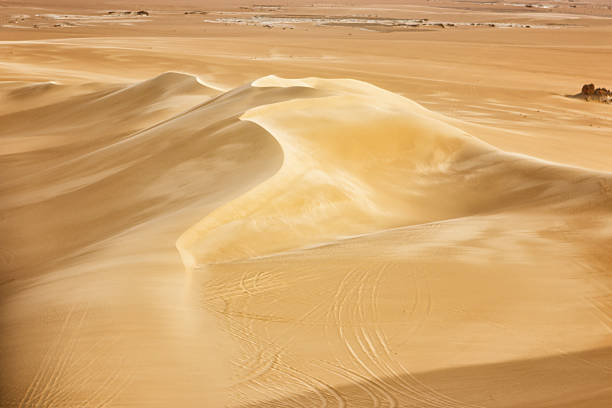vehicle_track: (331, 266, 441, 407), (356, 255, 440, 403), (19, 297, 72, 405), (42, 303, 87, 407), (266, 356, 350, 407)
